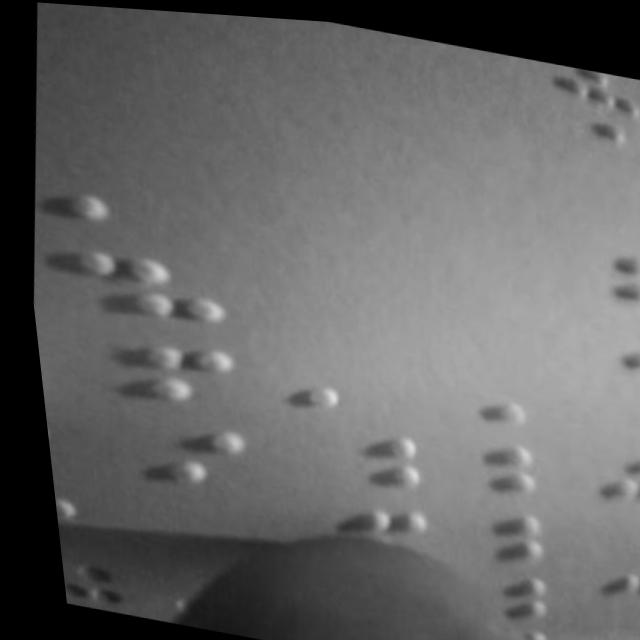braiile: (68, 399, 246, 500), (49, 231, 227, 331), (59, 312, 234, 410), (280, 409, 423, 503), (539, 102, 640, 182), (547, 292, 640, 371), (547, 230, 640, 306), (560, 542, 640, 618), (537, 52, 640, 108), (568, 429, 640, 501), (565, 485, 640, 552)
